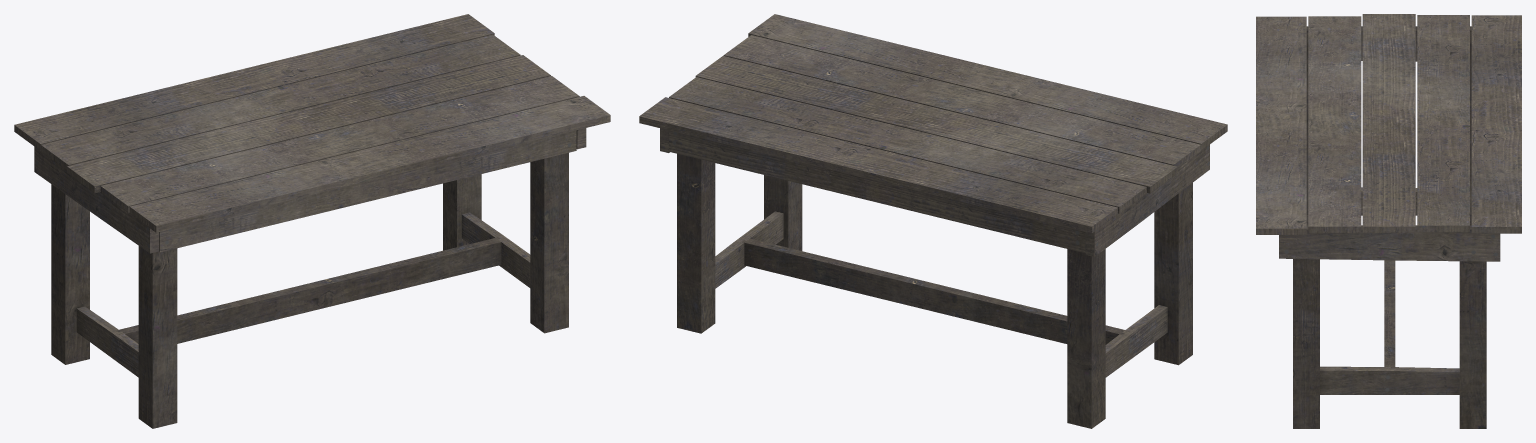
Rendered from table.glb.
The picture shows the model from 3 angles, left to right: view 1: azimuth 30°, elevation 25°; view 2: azimuth 150°, elevation 25°; view 3: azimuth 270°, elevation 25°; orthographic projection. The views are drawn at different scales.
Parts seen in each view (by area): view 1: table; view 2: table; view 3: table.
Part boxes in pixels (left/top/right/bottom): table: left=14, top=14, right=610, bottom=428; table: left=639, top=14, right=1227, bottom=428; table: left=1256, top=14, right=1521, bottom=428.
Bounding box in the file's own units: 1.94 × 0.8878 × 1.01.
Materials: 1 (1 with a texture image).
